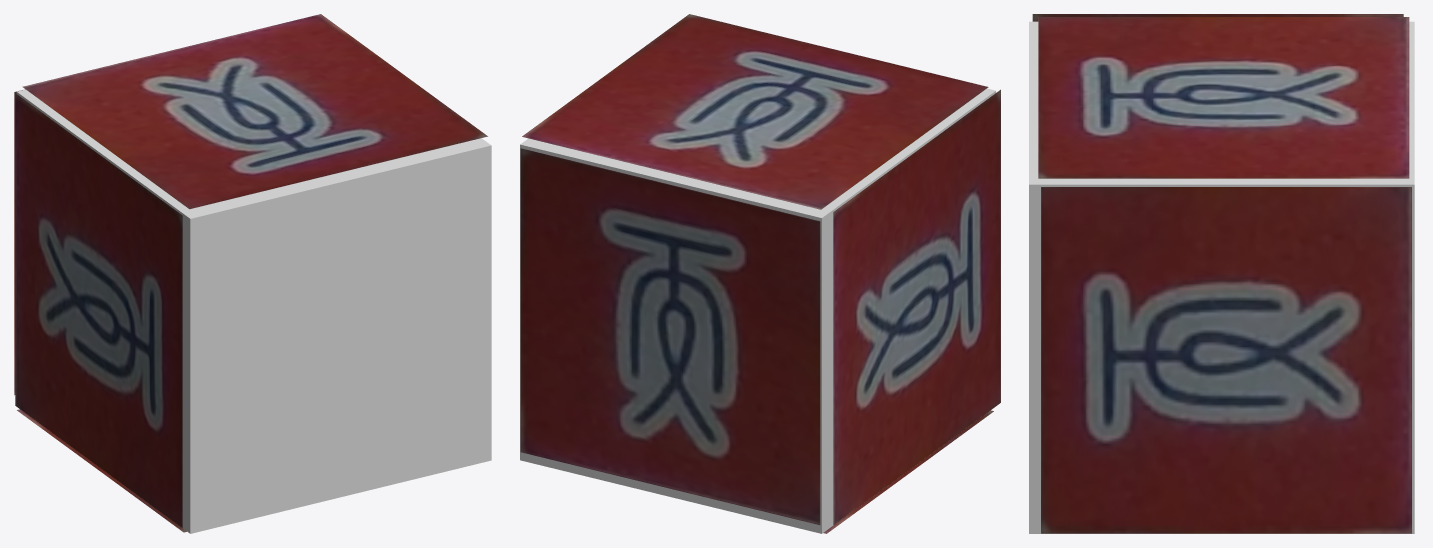
The picture shows the model from 3 angles, left to right: view 1: azimuth 30°, elevation 25°; view 2: azimuth 150°, elevation 25°; view 3: azimuth 270°, elevation 25°; orthographic projection. The views are drawn at different scales.
Visible parts, largest first — view 1: Link28, R1.002, R1.004, R1.005, R1.001; view 2: R1.001, R1.002, R1.004, Link28, R1.005; view 3: R1.003, R1.004, Link28, R1.002.
Boxes of the visible parts, <box> form: Link28: <box>16,89,491,533</box>; R1.002: <box>15,93,182,527</box>; R1.004: <box>22,14,487,209</box>; R1.005: <box>17,409,186,532</box>; R1.001: <box>14,89,25,395</box>; R1.001: <box>520,148,820,524</box>; R1.002: <box>833,89,1000,524</box>; R1.004: <box>522,14,988,209</box>; Link28: <box>520,88,995,533</box>; R1.005: <box>823,410,993,533</box>; R1.003: <box>1041,187,1411,533</box>; R1.004: <box>1038,17,1409,178</box>; Link28: <box>1029,21,1414,533</box>; R1.002: <box>1032,14,1403,21</box>.
Bounding box in the file's own units: 0.3585 × 0.3539 × 0.3577.
Materials: 1 (1 with a texture image).
